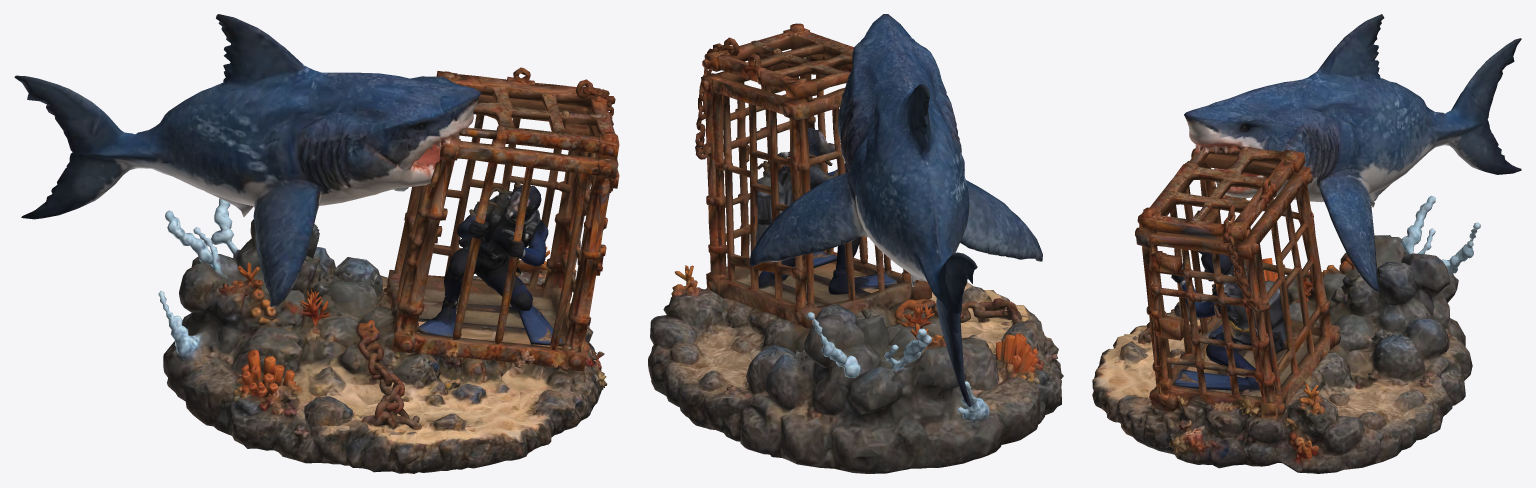
File: tubarao.glb
The picture shows the model from 3 angles, left to right: view 1: azimuth 30°, elevation 25°; view 2: azimuth 150°, elevation 25°; view 3: azimuth 270°, elevation 25°; orthographic projection. The views are drawn at different scales.
Visible parts, largest first — view 1: Prop_tubarao; view 2: Prop_tubarao; view 3: Prop_tubarao.
Boxes of the visible parts, left/top/right/bottom form: Prop_tubarao: left=14, top=14, right=619, bottom=473; Prop_tubarao: left=648, top=14, right=1063, bottom=473; Prop_tubarao: left=1092, top=14, right=1521, bottom=473.
Size of the model in its own units: 8.22 by 6.5 by 7.73.
1 material, 1 textured.
